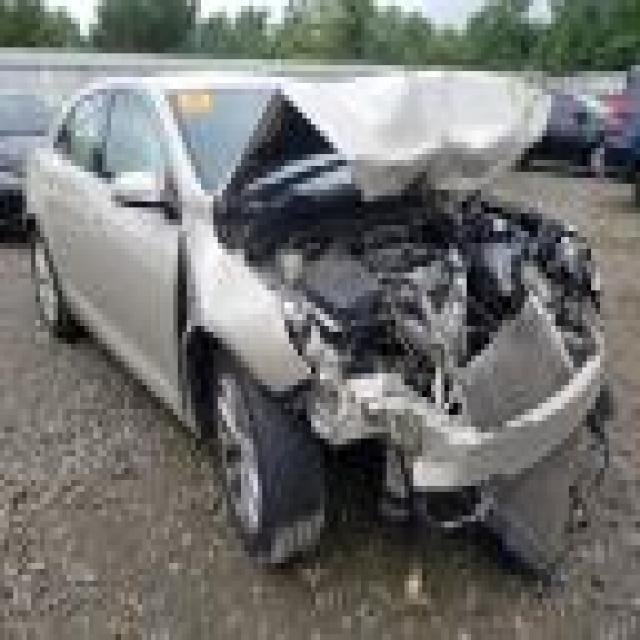severe: (180, 162, 640, 569)
